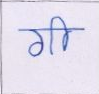i_matra: (53, 16, 71, 51)
